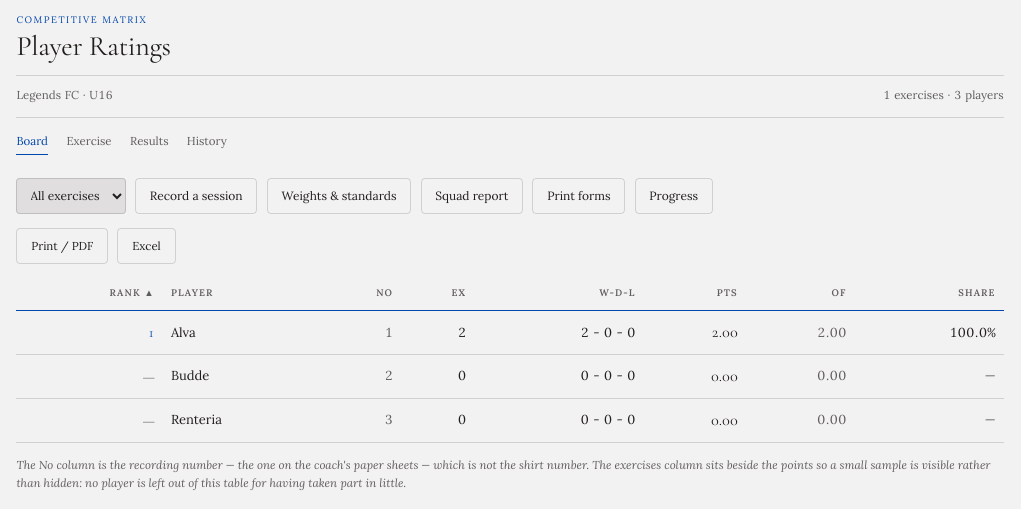
Test: recording a session › shows that exercise's ratings as soon as one is chosen
Step 1. Select "3 Laps" in the dropdown named "Exercise" → (71, 196), box left=16, top=178, right=126, bottom=214
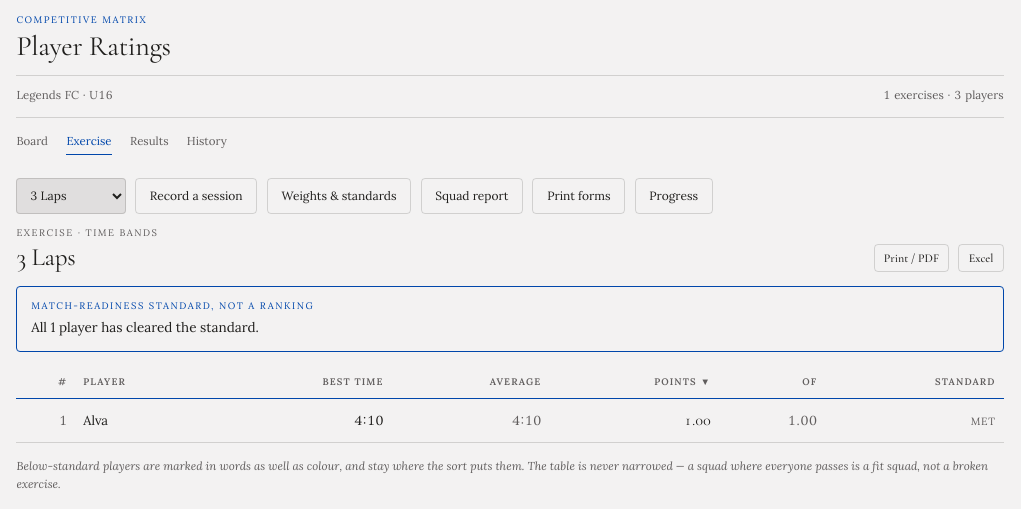
Expected: the table is shown, left=16, top=366, right=1004, bottom=443
